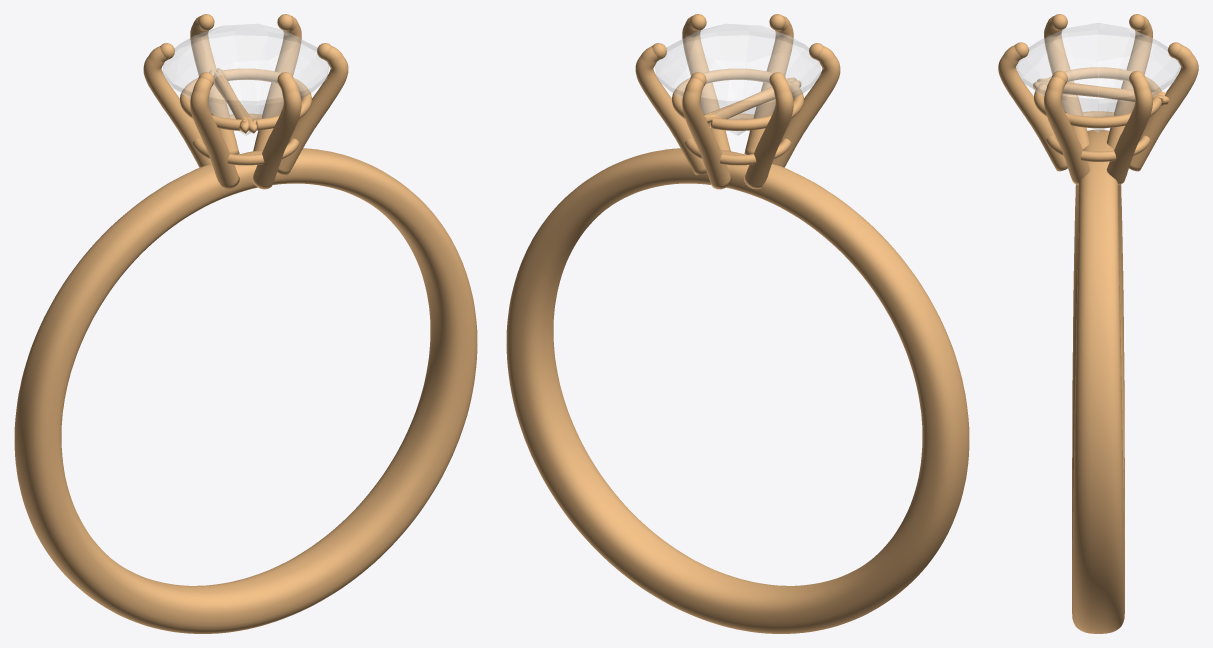
The model's file is ring-solitaire.glb.
3 renders of one model, left to right at view 1: azimuth 30°, elevation 25°; view 2: azimuth 150°, elevation 25°; view 3: azimuth 270°, elevation 25°, orthographic. The views are drawn at different scales.
Parts seen in each view (by area): view 1: metal_band, metal_head, diamond; view 2: metal_band, metal_head, diamond; view 3: metal_band, metal_head, diamond.
Part boxes in pixels (<box>): metal_band: <box>14,148,477,633</box>; metal_head: <box>143,14,348,189</box>; diamond: <box>163,24,328,135</box>; metal_band: <box>506,148,969,633</box>; metal_head: <box>635,14,840,189</box>; diamond: <box>655,24,820,135</box>; metal_band: <box>1072,129,1124,633</box>; metal_head: <box>998,14,1198,185</box>; diamond: <box>1016,22,1180,132</box>.
Size of the model in its own units: 20.17 by 24.82 by 7.94.
